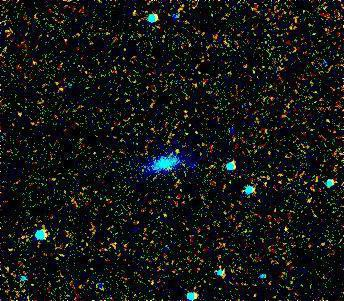star: (161, 135, 191, 165)
